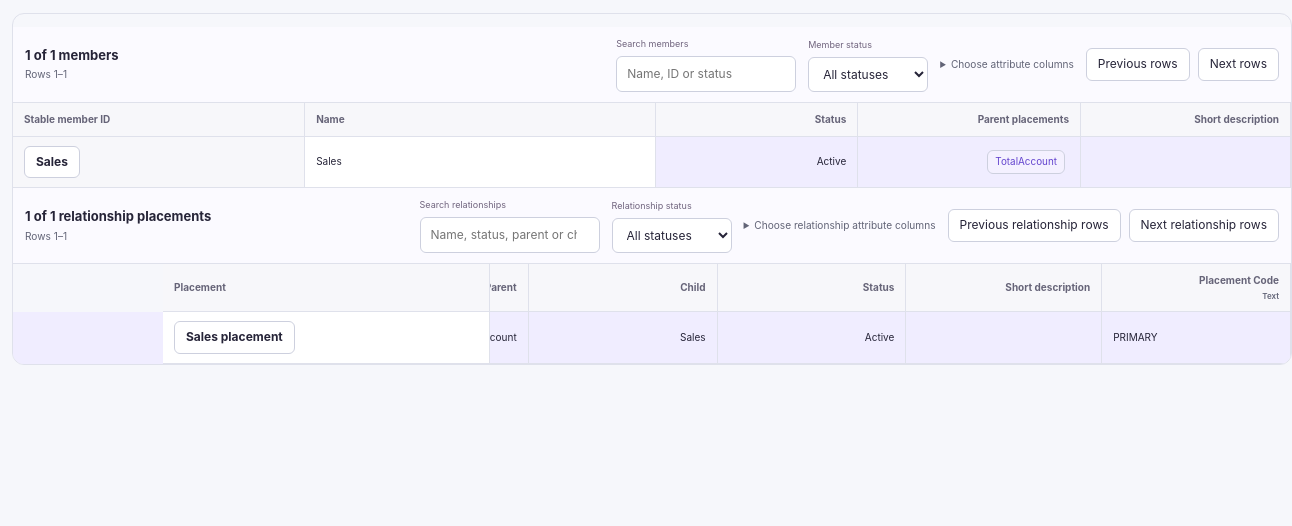
it: renders relationship attributes and submits a relationship-scoped edit
The image size is (1292, 526).
Click the cell named "Placement Code for Sales placement" at (1197, 338), box [1102, 312, 1291, 364]
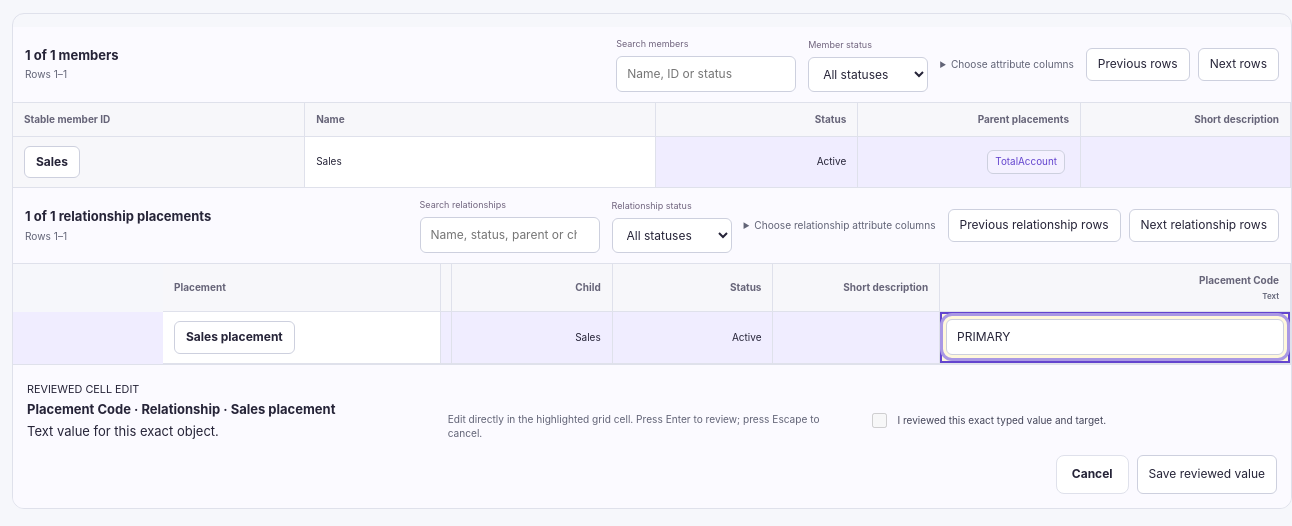
Replace the text in the field named "Typed value" with "SECONDARY" at (1115, 337), box [946, 319, 1284, 355]
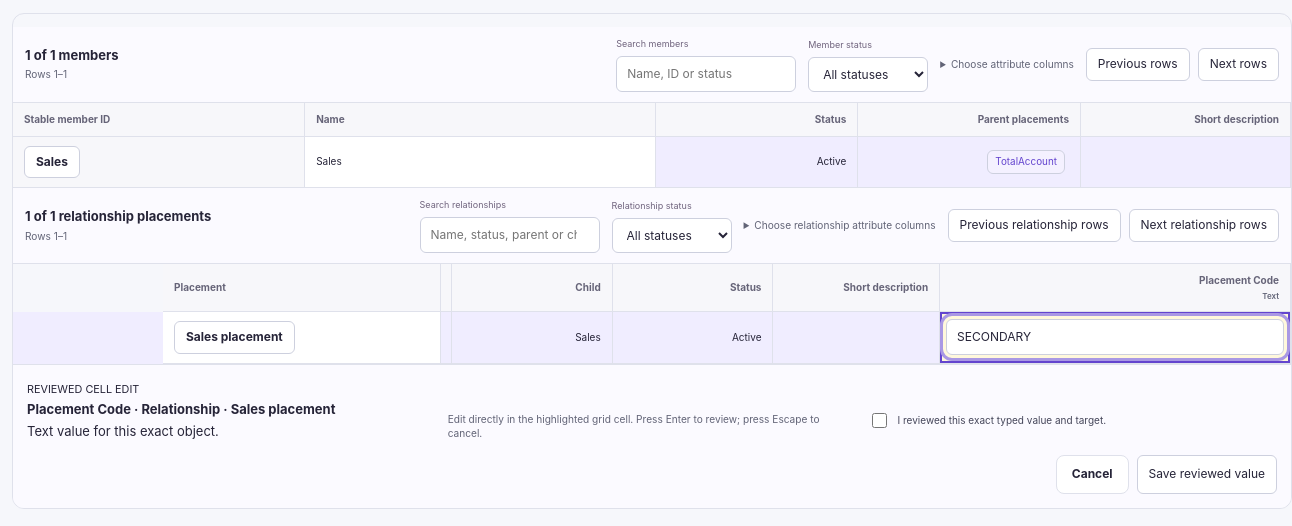
Click the checkbox labelled "I reviewed this exact typed value and target." at (880, 421), box [872, 413, 887, 428]
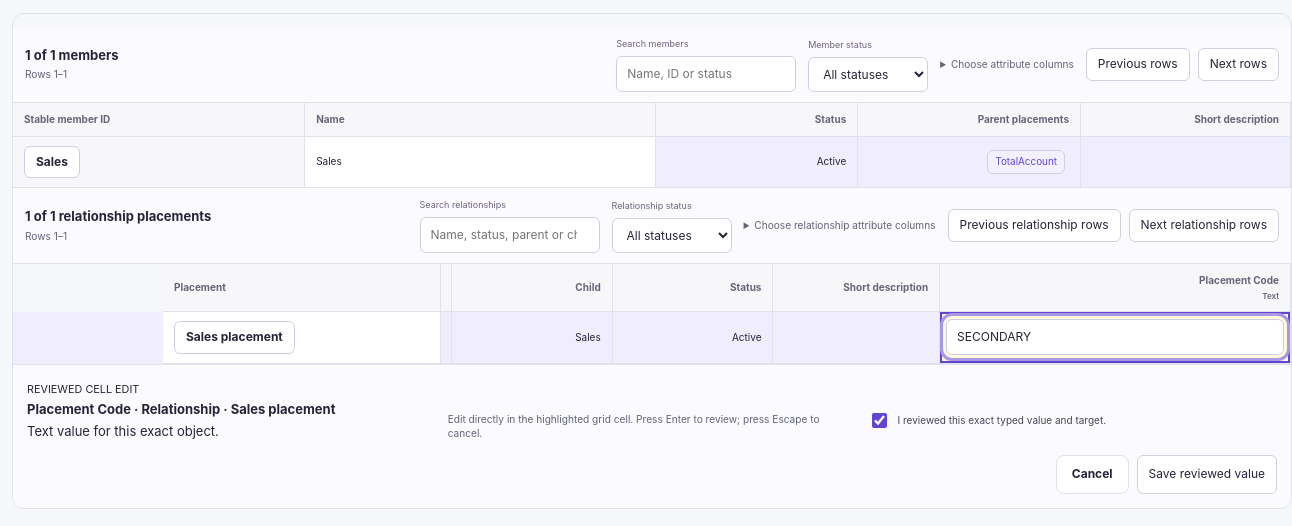
Click the button "Save reviewed value" at (1207, 474), box [1137, 455, 1277, 494]
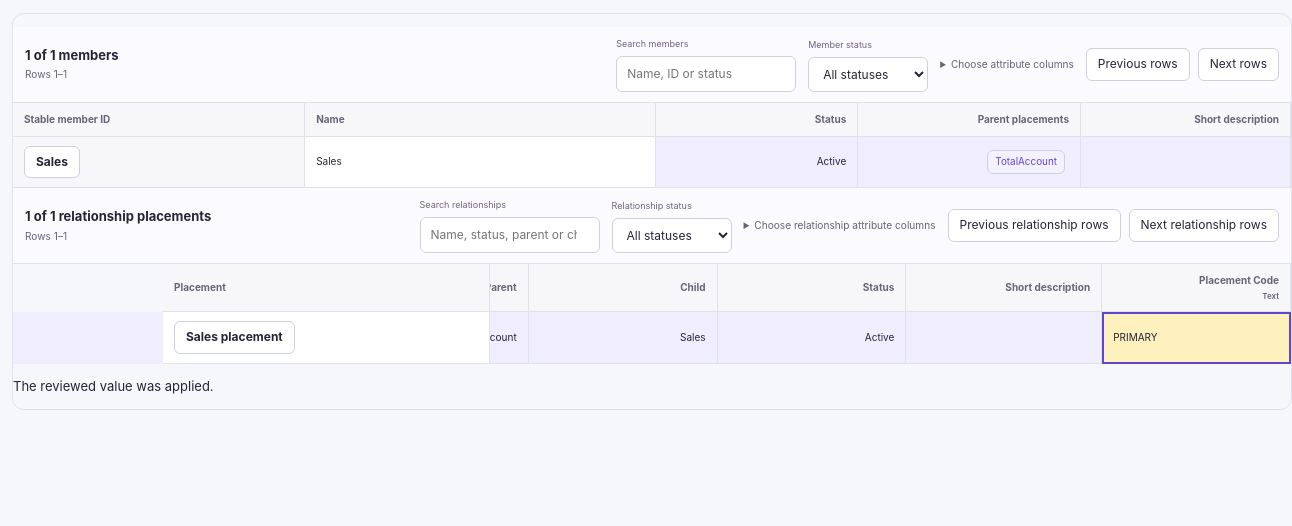
Expected: the text "The reviewed value was applied." is shown, [13, 378, 214, 394]
